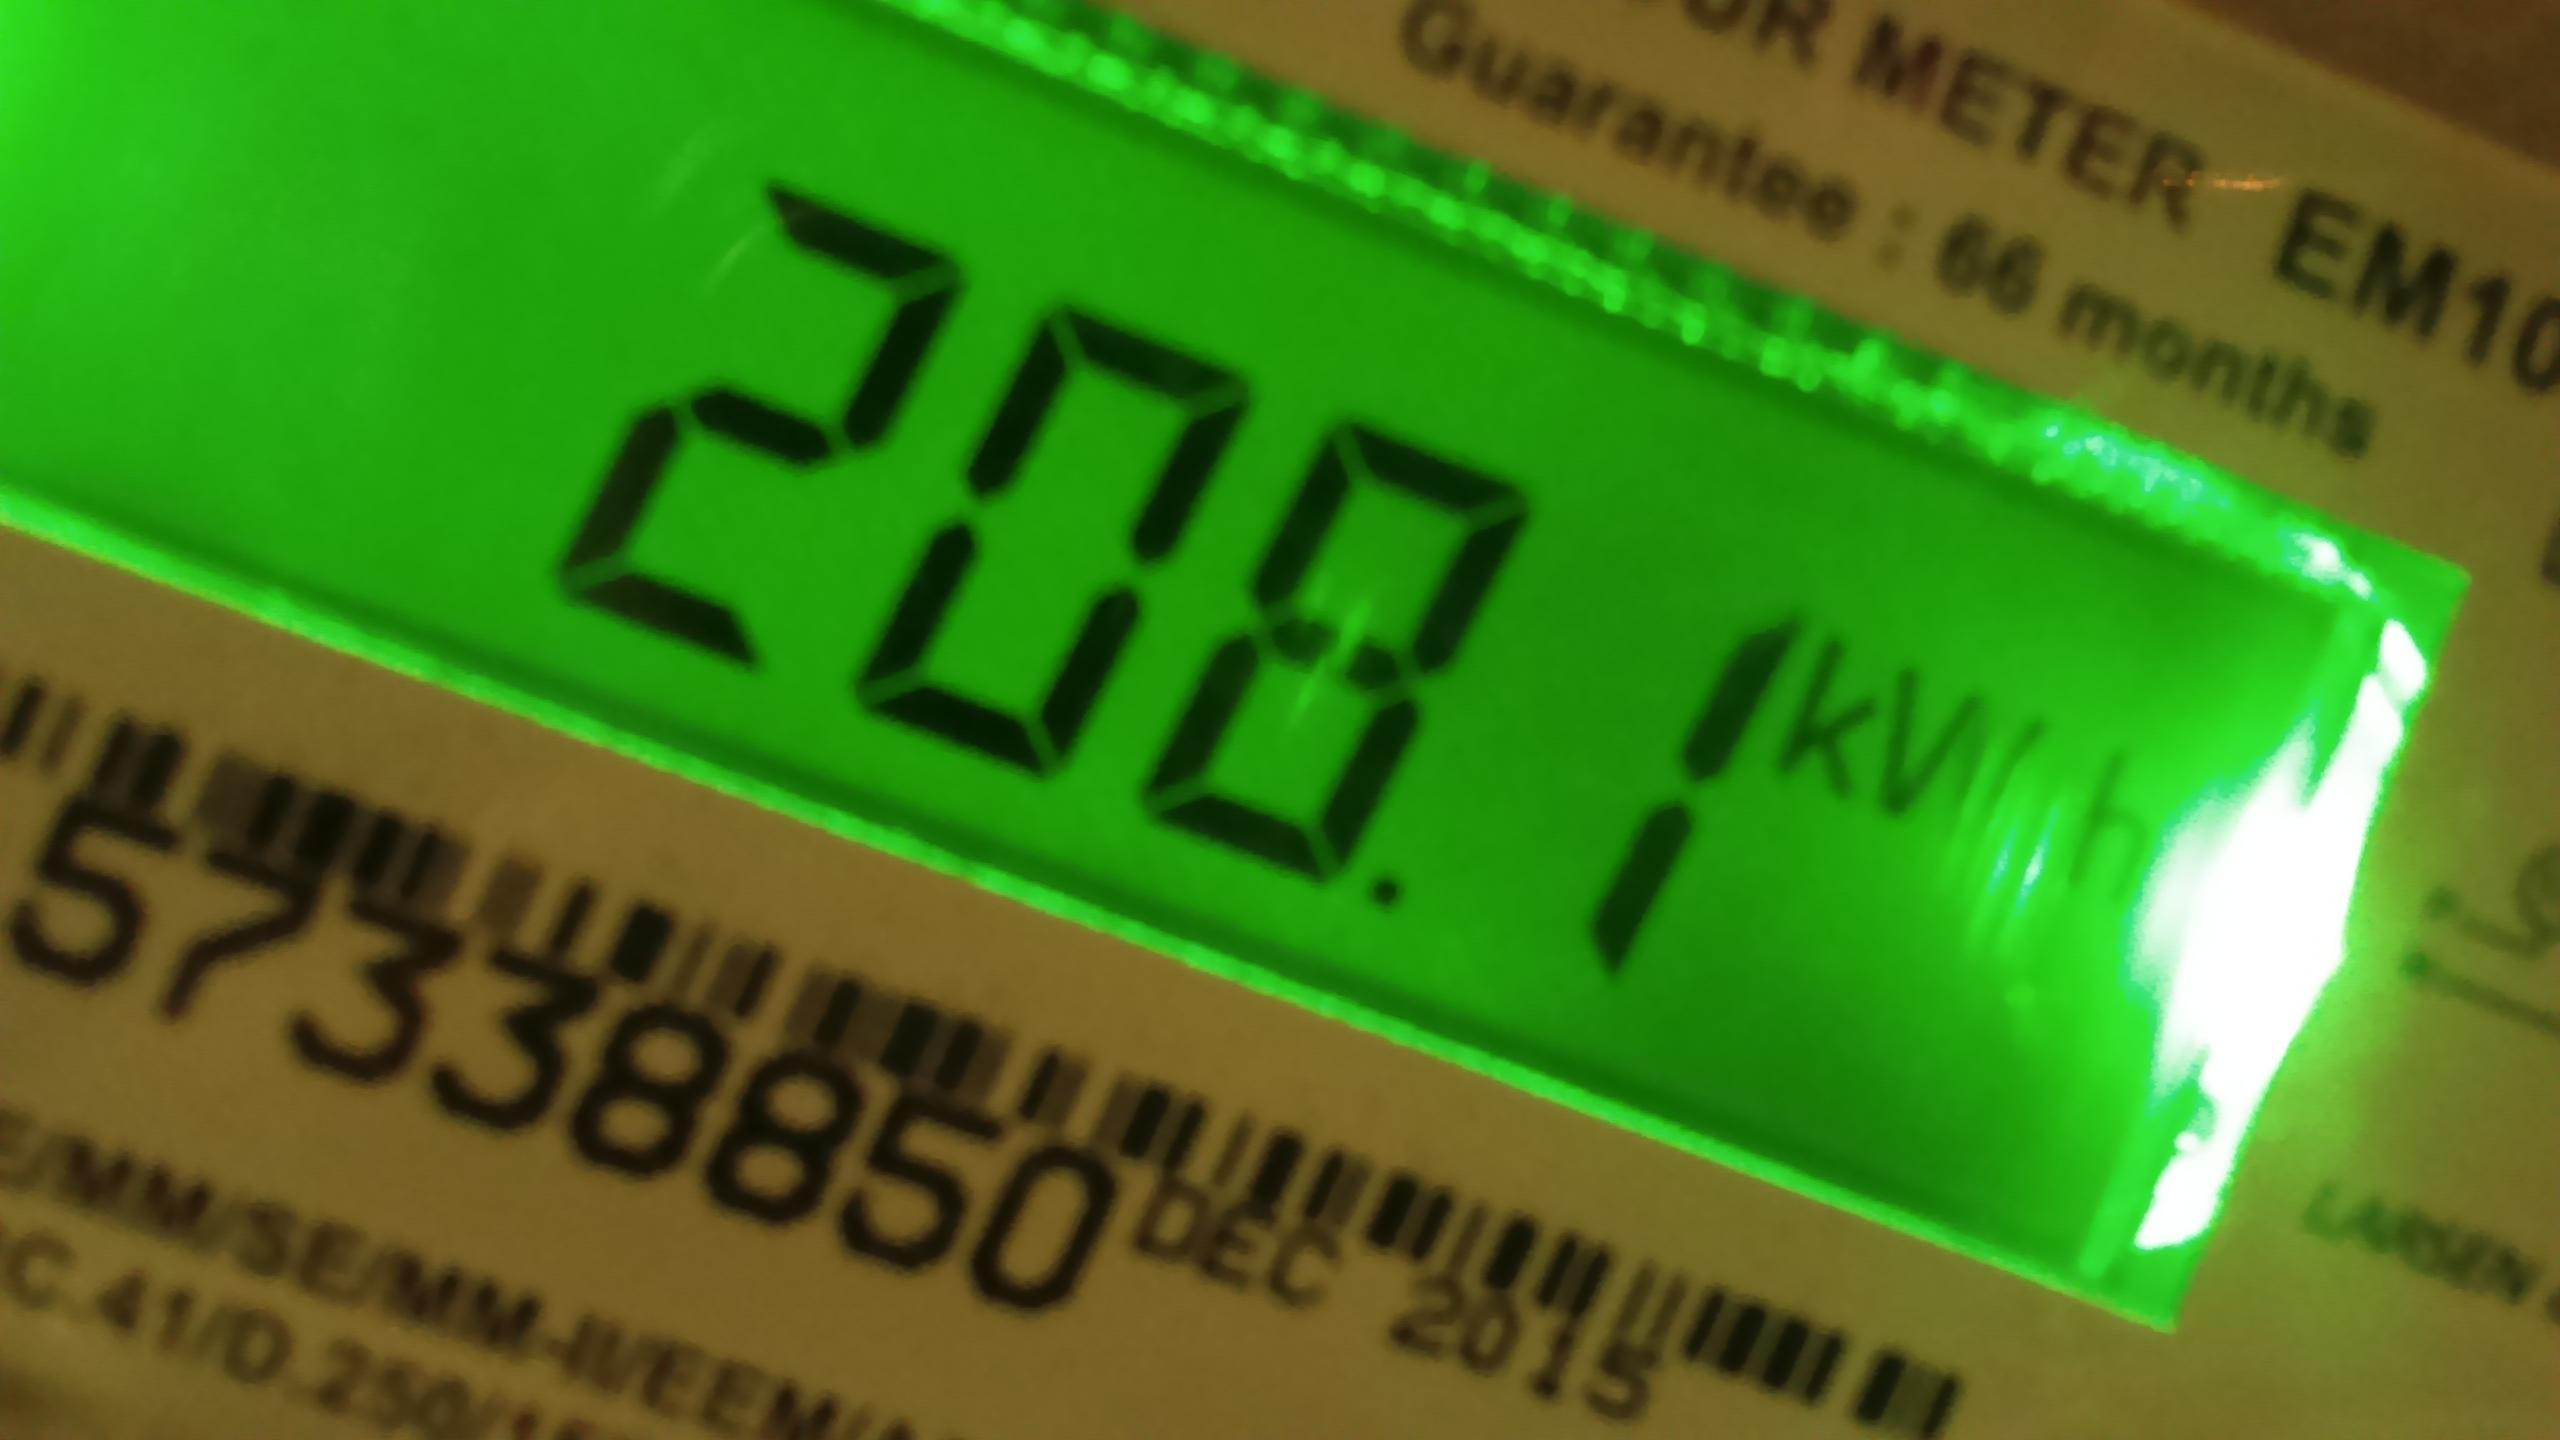.: (1788, 636, 2181, 927)
0: (1328, 843, 1422, 952)
1: (848, 253, 1252, 776)
2: (1574, 553, 1832, 976)
3: (468, 118, 1012, 643)
9: (1114, 373, 1577, 886)
